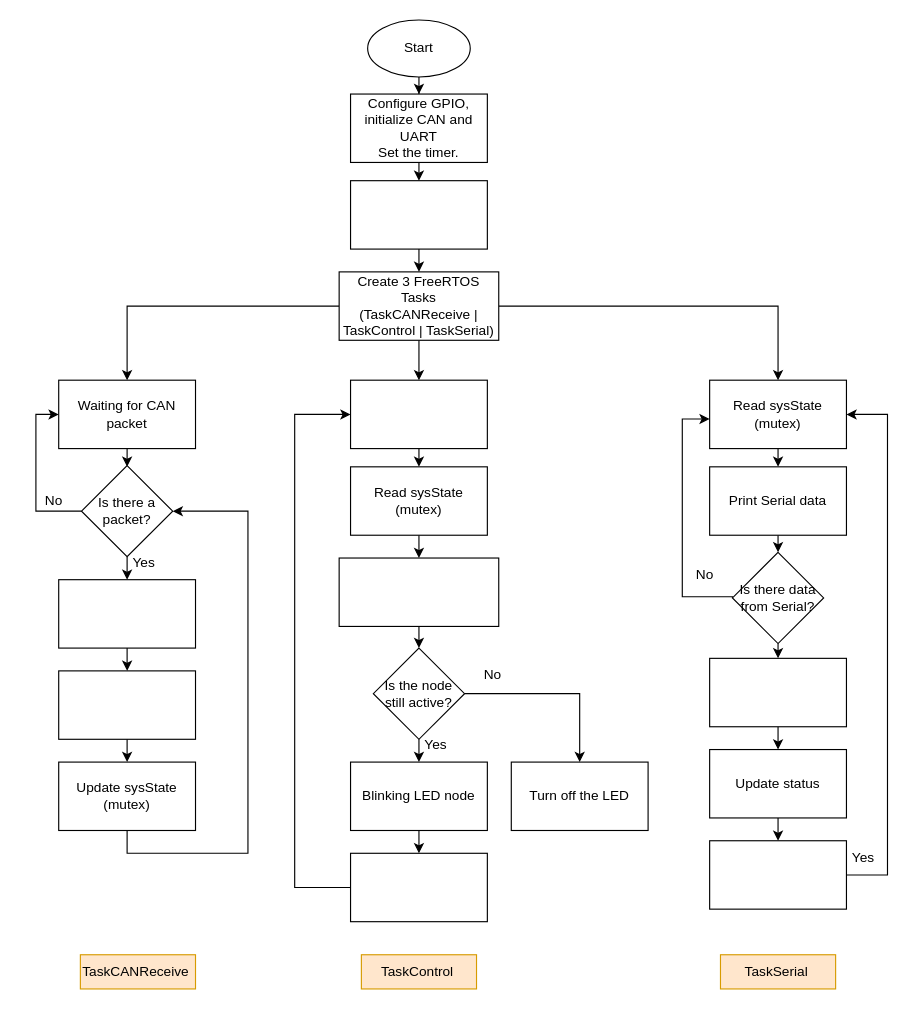
Image size: 917x1009. Some labels were removed from this diagram. Here are the shapes that lost their labels. From the top down, the centre of each, then its label:
At (418,214): "Create Mutex".
At (418,414): "Get the time in milliseconds()".
At (418,591): "control the corresponding lights".
At (127,613): "Read CAN ID".
At (127,704): "Decoding data".
At (777,692): "Analyzing the command".
At (418,887): "Delay 10ms".
At (777,874): "Sent to Central Unit".
